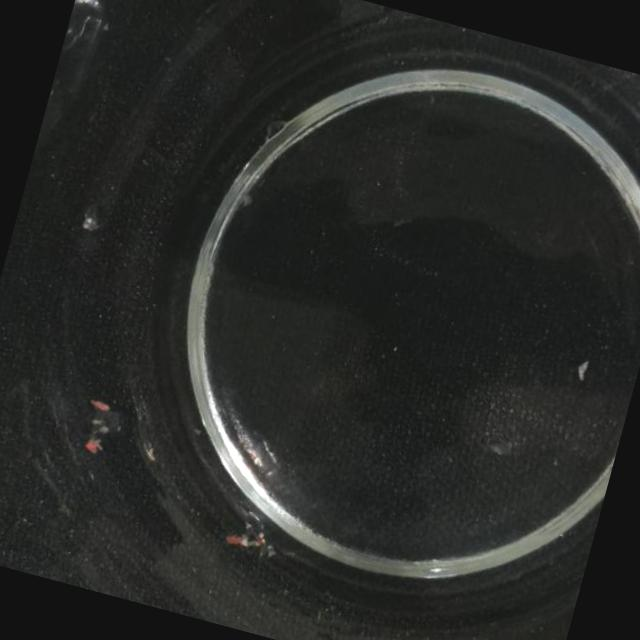fiber: (208, 496, 284, 571), (66, 398, 136, 466), (62, 200, 114, 249), (564, 348, 600, 389)
